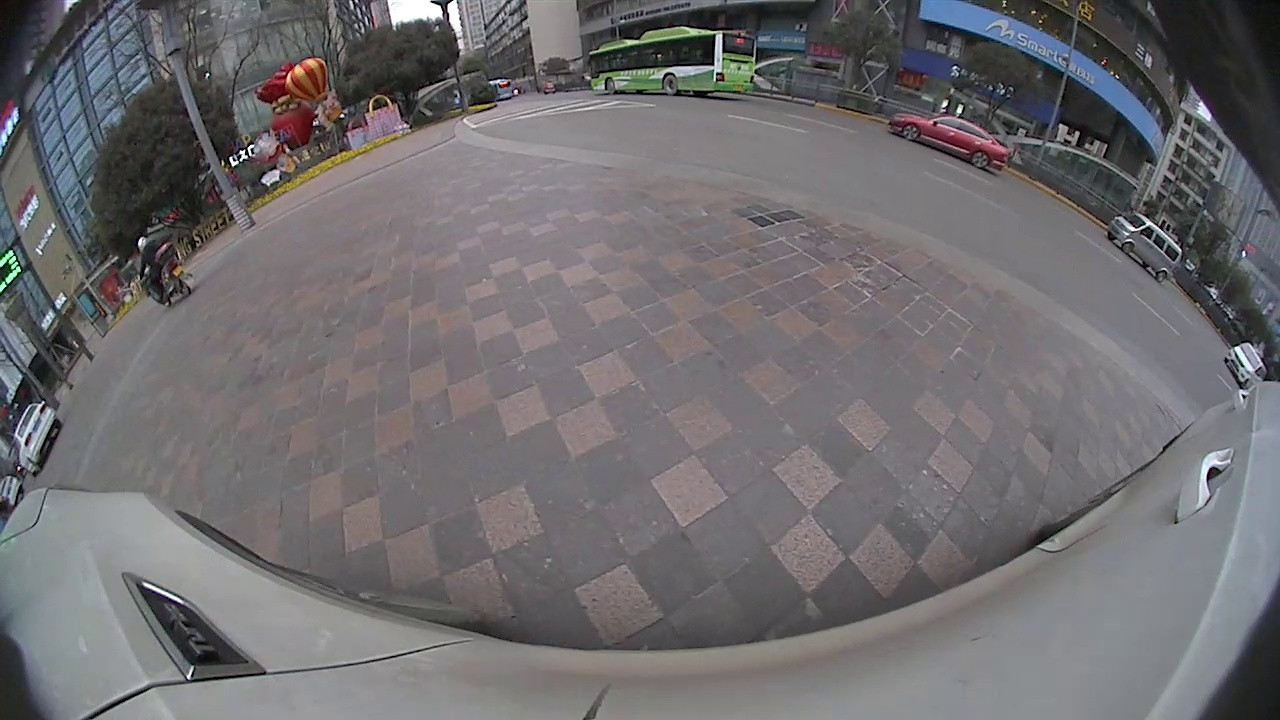bus: (586, 28, 759, 96)
car: (888, 116, 1013, 169), (1106, 213, 1183, 279), (11, 402, 64, 475), (1225, 344, 1263, 388)
front: (899, 121, 923, 143), (601, 76, 618, 95), (1119, 240, 1136, 257)
rear: (970, 150, 991, 171), (661, 74, 680, 95), (1153, 269, 1170, 284)
rider: (137, 236, 194, 303)
